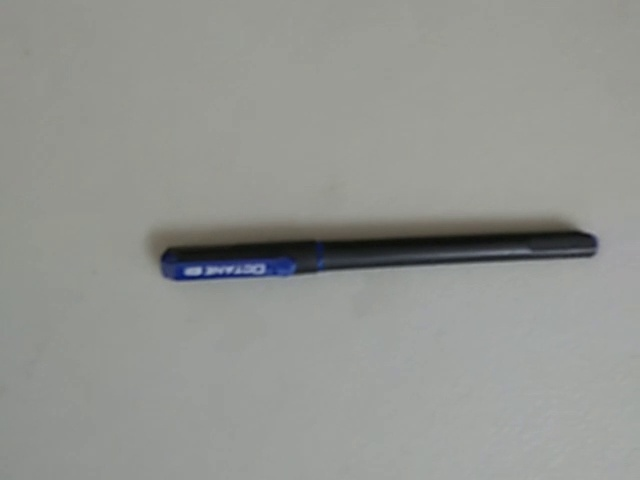Pen: (147, 209, 619, 301)
